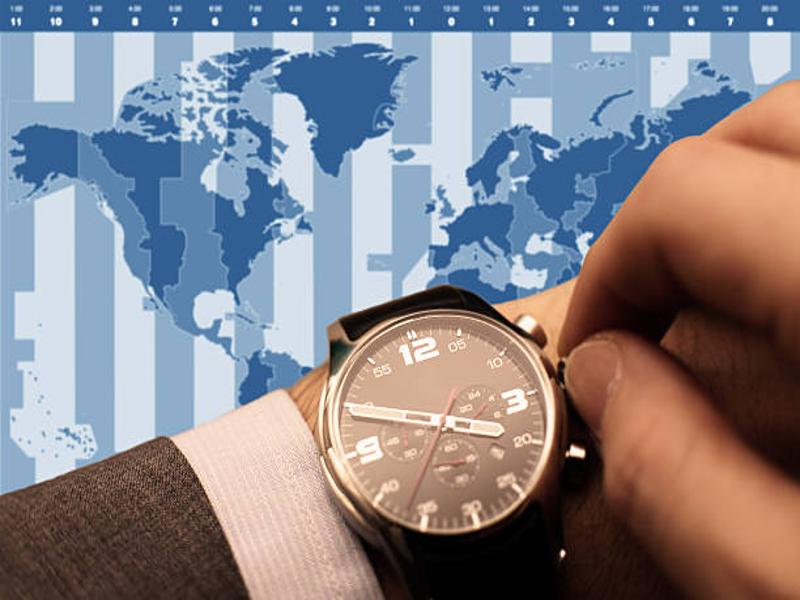watch: (324, 282, 587, 579)
